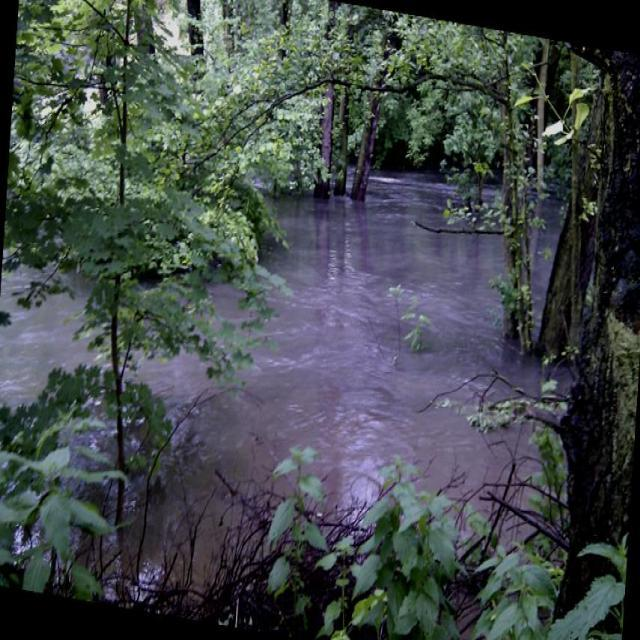flood: (133, 139, 591, 589)
